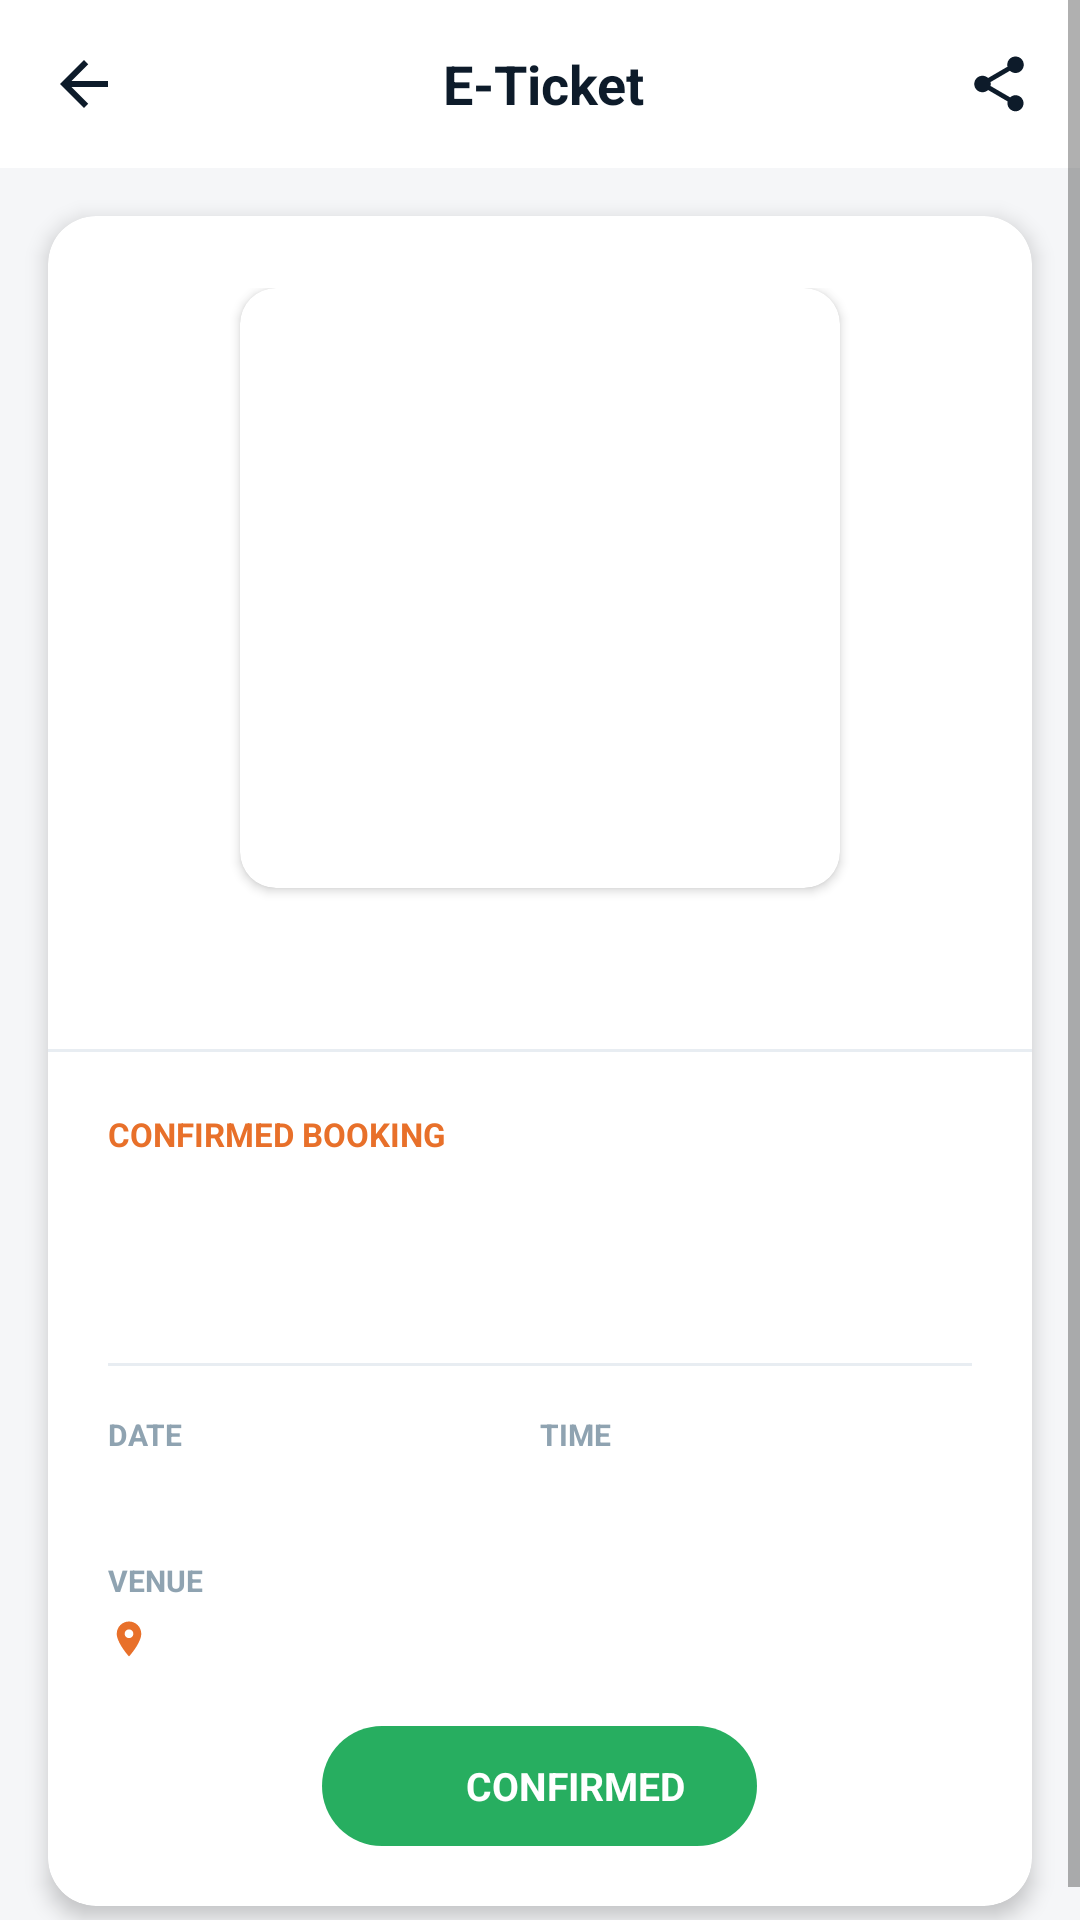

Named icons in this screenshot (1080*1920) and their bounding boxes, region(x1, y1, x2, y2):
arrow back: region(60, 60, 108, 108)
location: region(116, 1621, 142, 1656)
share: region(974, 56, 1024, 112)
